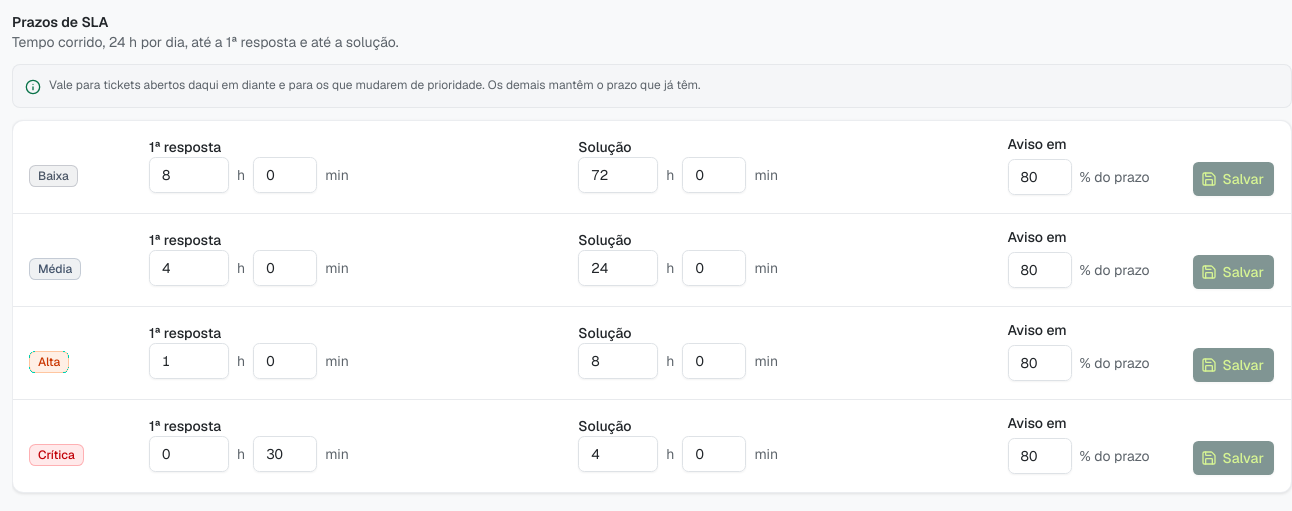
SlaPoliciesManager › converte h:min em minutos e manda só o campo que mudou
Replace the text in the 5th field named "Horas" with "2" at (189,361), box [149,343,229,379]
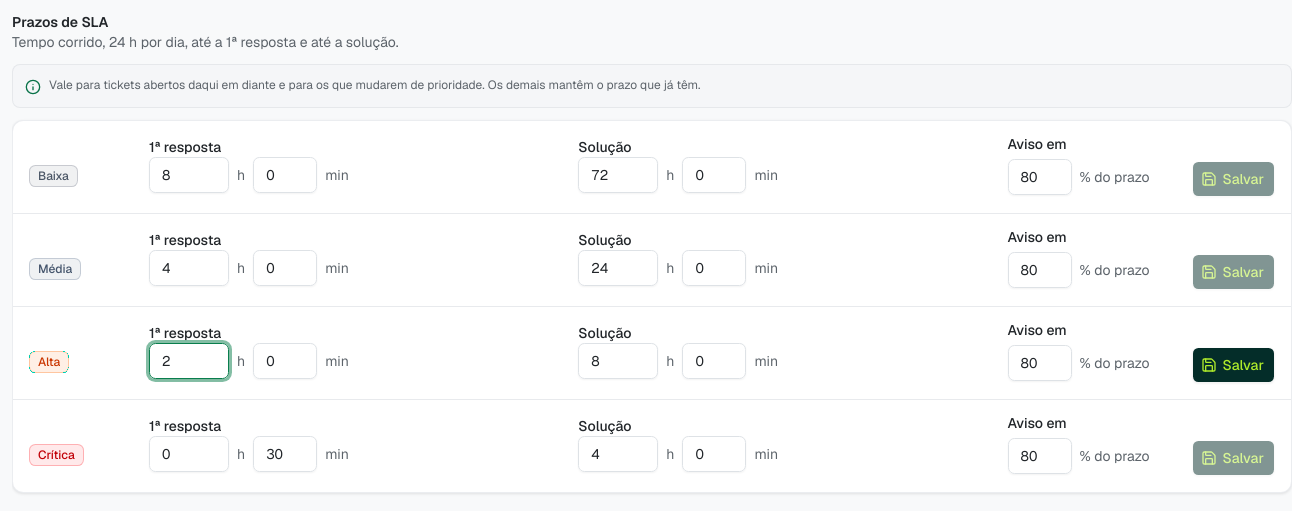
Replace the text in the 5th field named "Minutos" with "30" at (285,361), box [253,343,317,379]
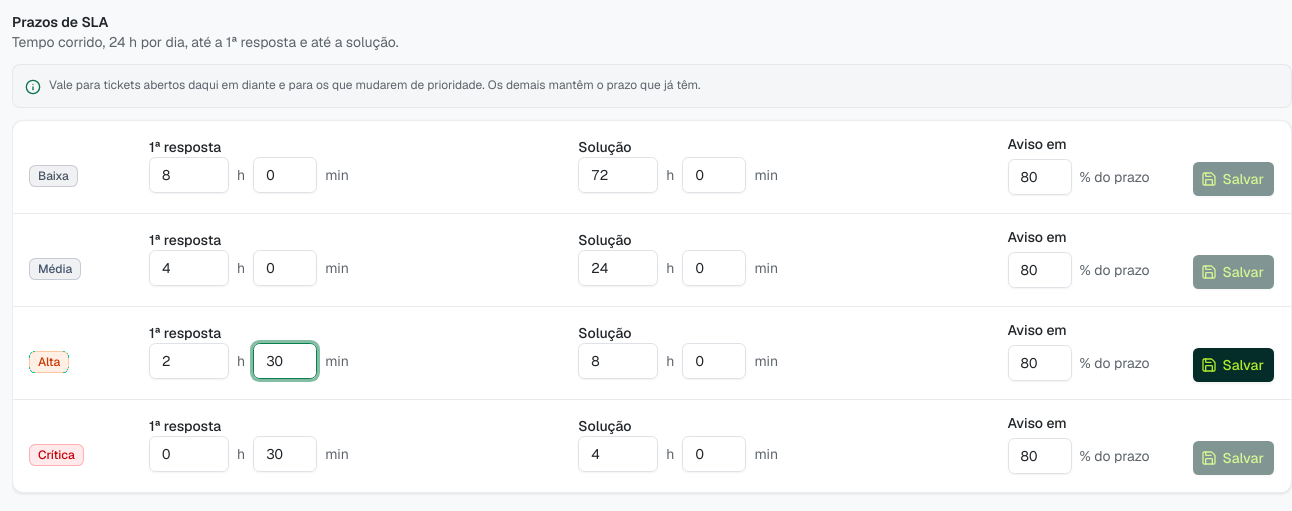
Click the button "Salvar" in the row of "Alta" at (1233,365), box [1192,347,1275,383]
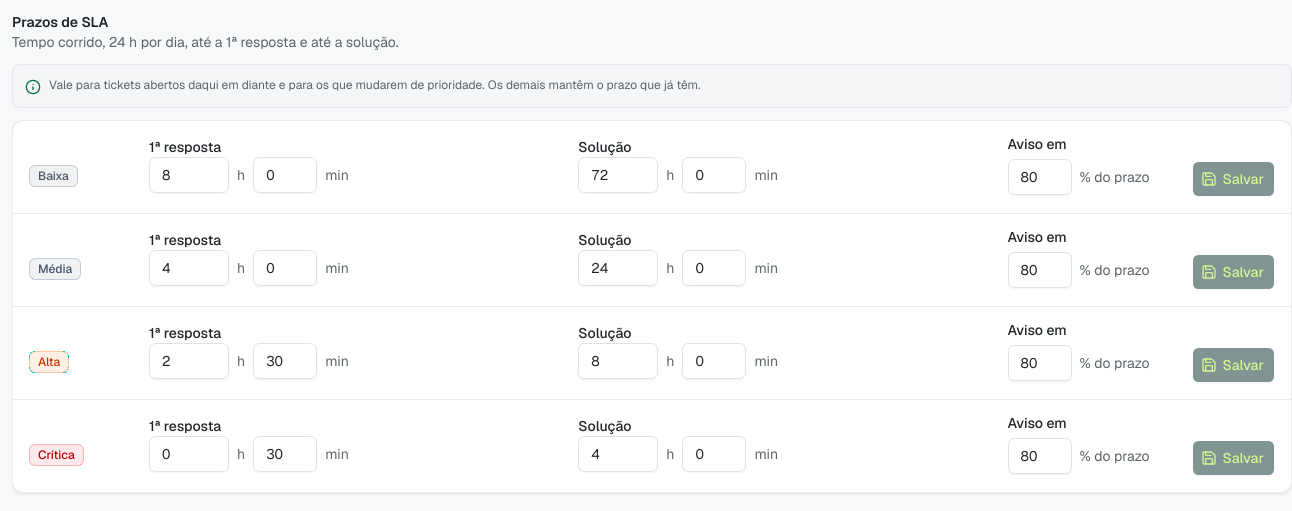
Now the button "Salvar" in the row of "Alta" is disabled, box [1192,347,1275,383]
